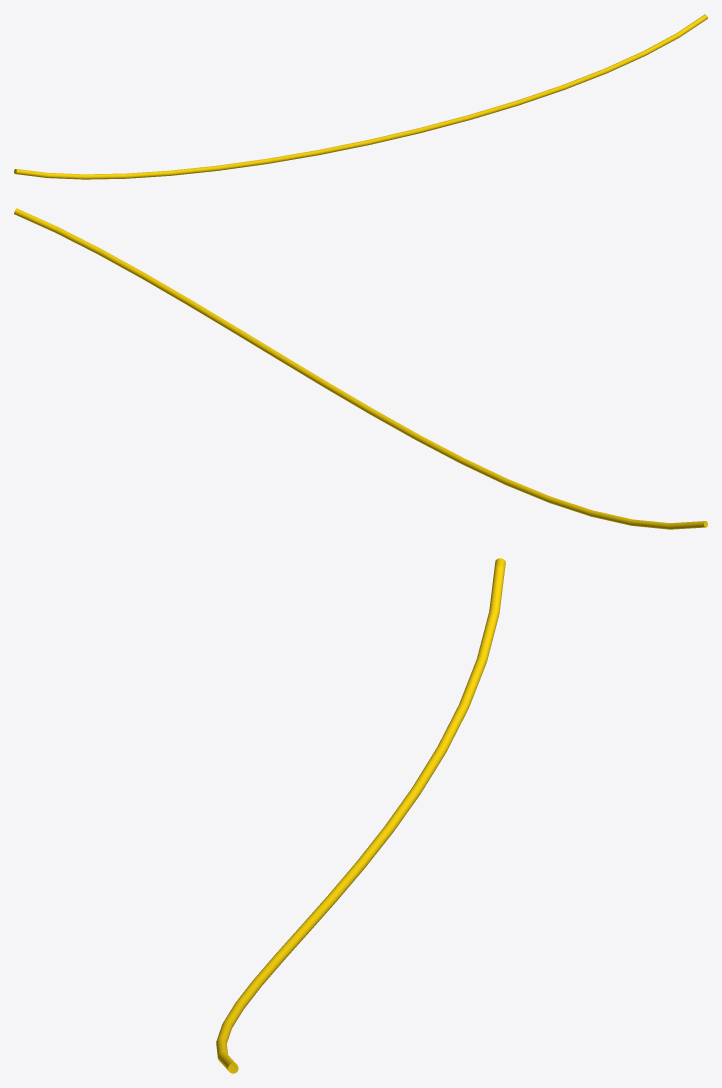
Rendered from Event_421115418_track_117.fbx.
The picture shows the model from 3 angles, top to bottom: view 1: azimuth 30°, elevation 25°; view 2: azimuth 150°, elevation 25°; view 3: azimuth 270°, elevation 25°; orthographic projection. The views are drawn at different scales.
Parts seen in each view (by area): view 1: Model; view 2: Model; view 3: Model.
Part boxes in pixels (x1,y1,x2,y2): Model: (14, 14, 707, 179); Model: (14, 208, 707, 529); Model: (216, 558, 505, 1073).
Bounding box in the file's own units: 5.45 × 0.6812 × 1.09.
